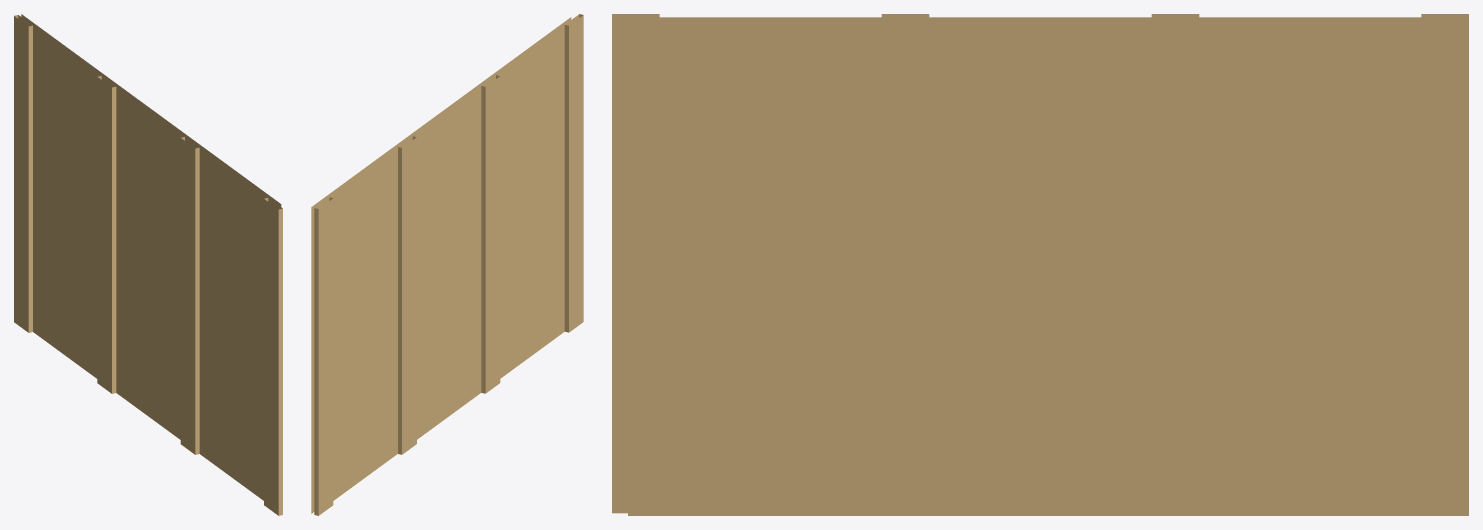
File: cabinet_back.dae
The picture shows the model from 3 angles, left to right: view 1: azimuth 30°, elevation 25°; view 2: azimuth 150°, elevation 25°; view 3: azimuth 270°, elevation 25°; orthographic projection. The views are drawn at different scales.
Parts seen in each view (by area): view 1: BV (×2), HRB_5 (×4); view 2: BV (×2), HRB_5 (×4); view 3: BV (×2), HRB_5.
Part boxes in pixels (x1,y1,x2,y2): BV (×2): (18, 14, 281, 500); HRB_5 (×4): (14, 15, 282, 515); BV (×2): (311, 17, 571, 513); HRB_5 (×4): (314, 14, 583, 515); BV (×2): (628, 17, 1468, 515); HRB_5: (612, 14, 659, 513).
Size of the model in its own units: 0.875 by 34.5 by 54.
